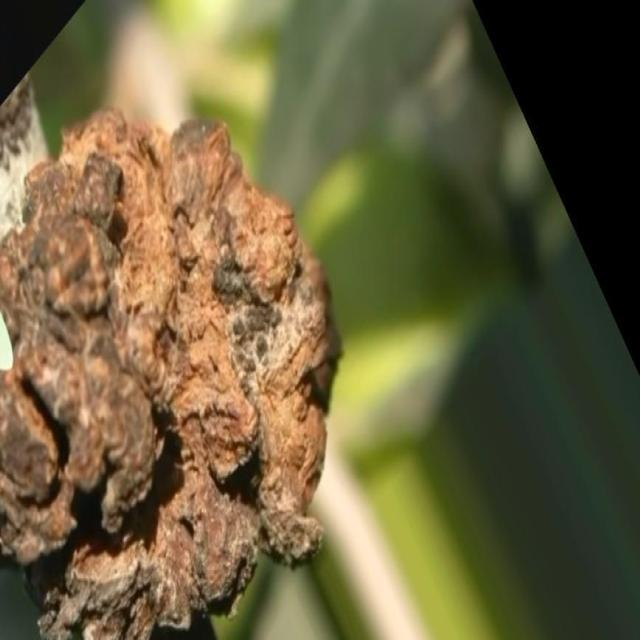Tuberculosis: (0, 110, 338, 639)
